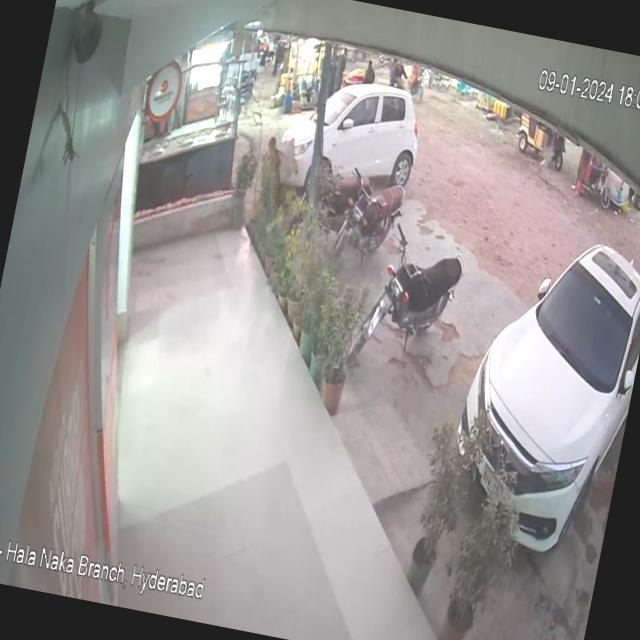Car: (433, 181, 640, 576), (254, 52, 433, 198)
Motorcycle: (346, 209, 480, 384), (336, 166, 414, 264)
